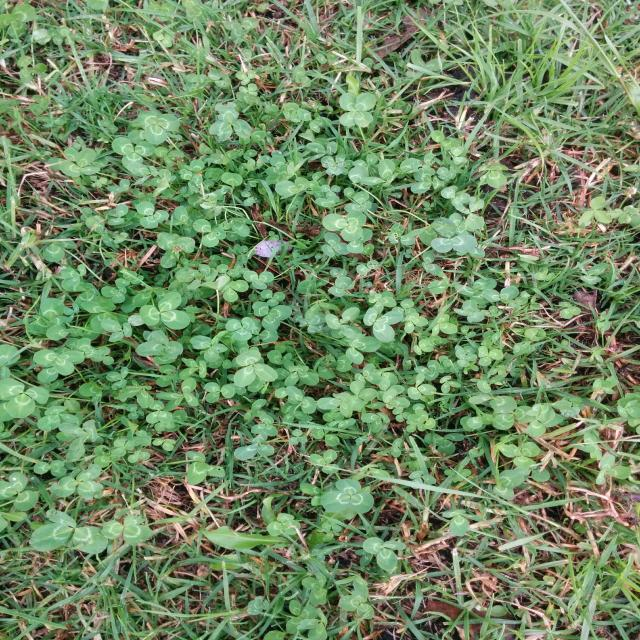Four Leaf Clover: (339, 92, 376, 128)
